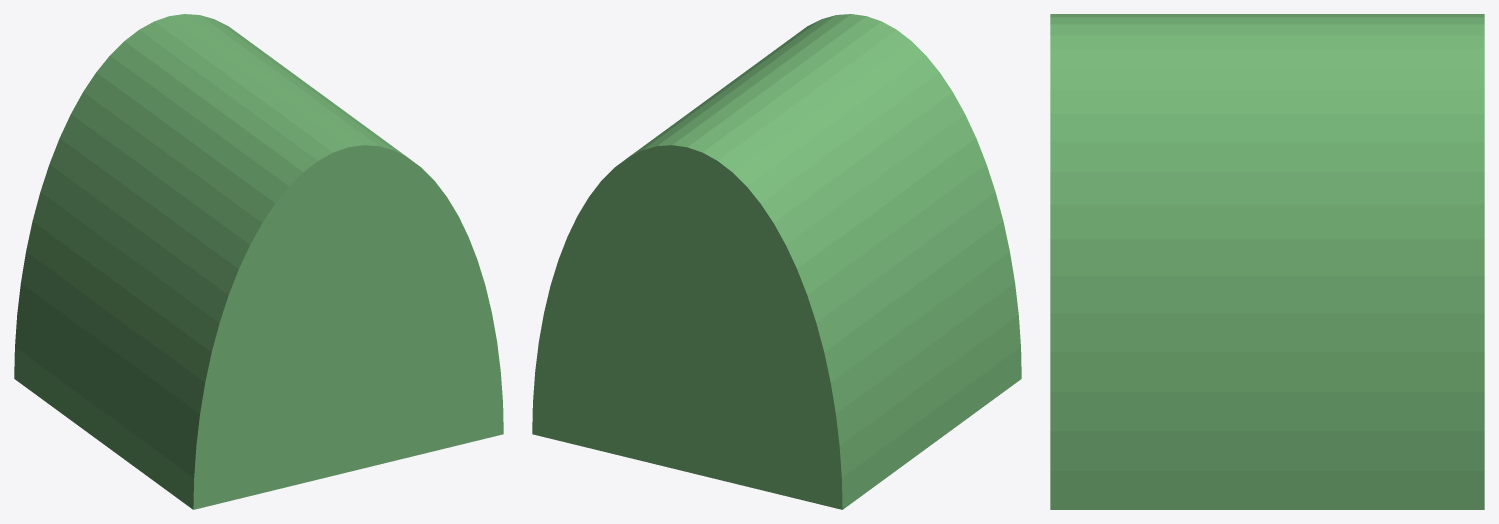
The model's file is roof.glb.
3 views of the same model, side by side, from view 1: azimuth 30°, elevation 25°; view 2: azimuth 150°, elevation 25°; view 3: azimuth 270°, elevation 25° (orthographic). The views are drawn at different scales.
Parts seen in each view (by area): view 1: Mesh_Mesh_head_geo.001_lambert2SG.001; view 2: Mesh_Mesh_head_geo.001_lambert2SG.001; view 3: Mesh_Mesh_head_geo.001_lambert2SG.001.
Boxes of the visible parts, bbox=[...] form: Mesh_Mesh_head_geo.001_lambert2SG.001: bbox=[14, 14, 503, 509]; Mesh_Mesh_head_geo.001_lambert2SG.001: bbox=[532, 14, 1021, 509]; Mesh_Mesh_head_geo.001_lambert2SG.001: bbox=[1050, 14, 1484, 509].
Size of the model in its own units: 1 by 1 by 1.
